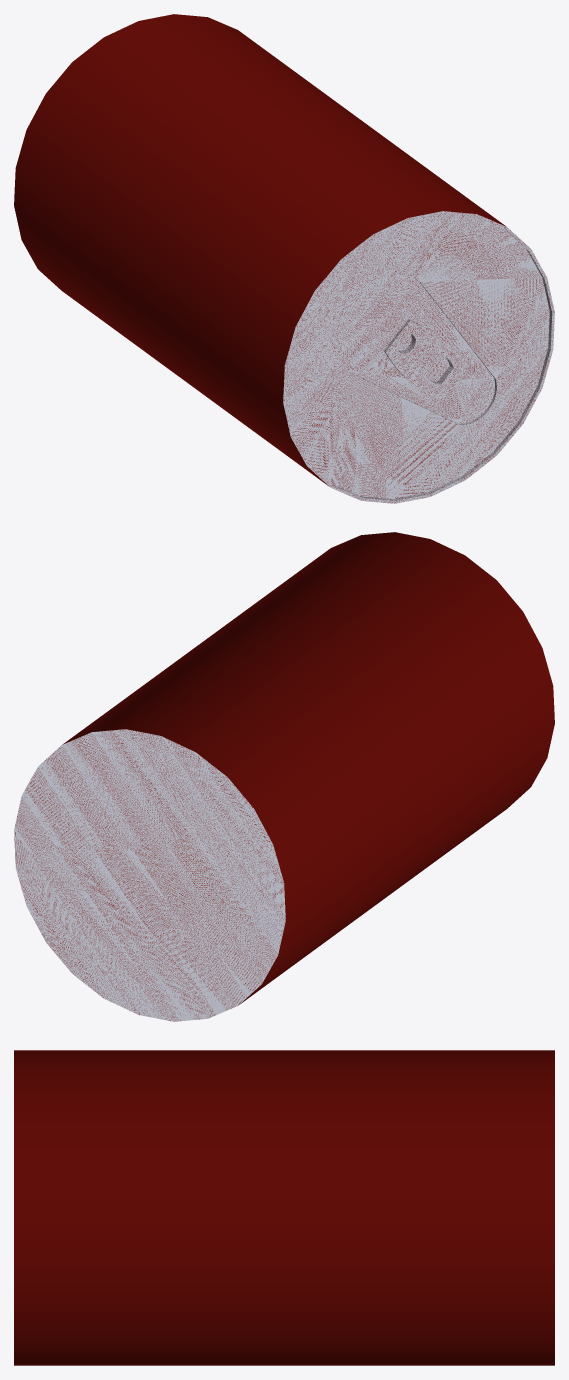
File: model_align.obj
3 renders of one model, top to bottom at view 1: azimuth 30°, elevation 25°; view 2: azimuth 150°, elevation 25°; view 3: azimuth 270°, elevation 25°, orthographic.
Parts seen in each view (by area): view 1: mesh1_mesh1-geometry; view 2: mesh1_mesh1-geometry; view 3: mesh1_mesh1-geometry.
Boxes of the visible parts, x1,y1,x2,y2 form: mesh1_mesh1-geometry: [14, 14, 554, 503]; mesh1_mesh1-geometry: [14, 532, 554, 1021]; mesh1_mesh1-geometry: [14, 1050, 554, 1365].
Size of the model in its own units: 0.0641 by 0.0641 by 0.1098.
